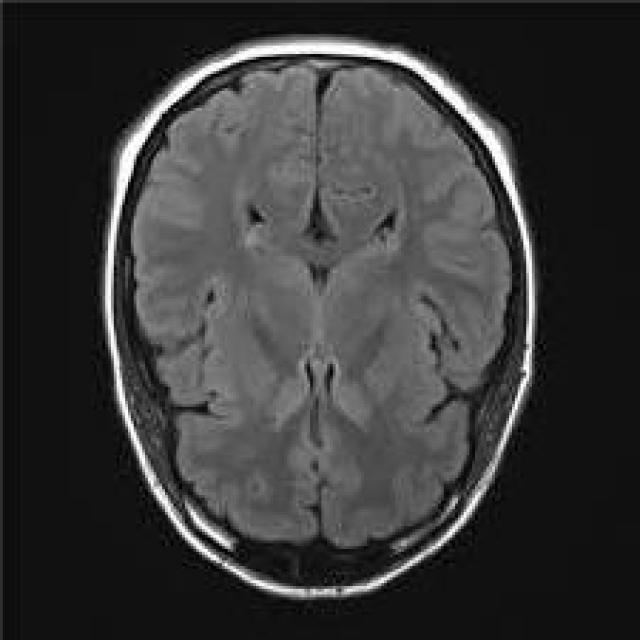notumor: (102, 37, 532, 597)
